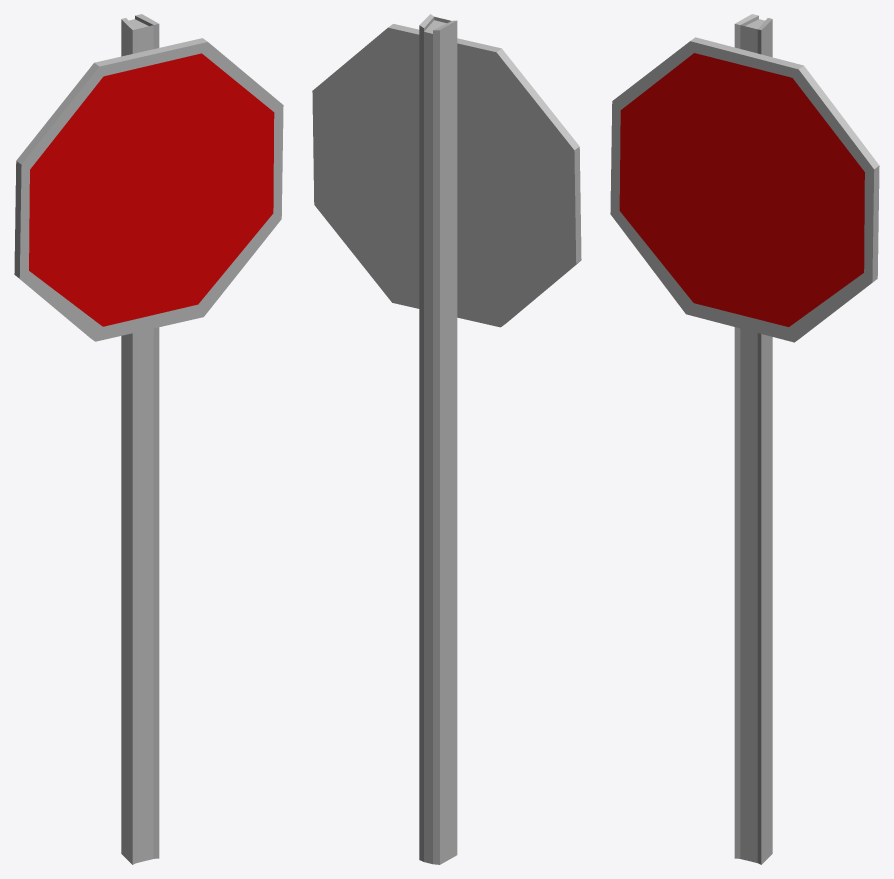
The model's file is _topSign.fbx.
3 views of the same model, side by side, from view 1: azimuth 30°, elevation 25°; view 2: azimuth 150°, elevation 25°; view 3: azimuth 330°, elevation 25° (orthographic).
Parts seen in each view (by area): view 1: polySurface1; view 2: polySurface1; view 3: polySurface1.
Part boxes in pixels (x1,y1,x2,y2): polySurface1: (14,14,283,864); polySurface1: (312,14,581,864); polySurface1: (610,14,879,864).
Size of the model in its own units: 4.93 by 14.91 by 0.6829.
